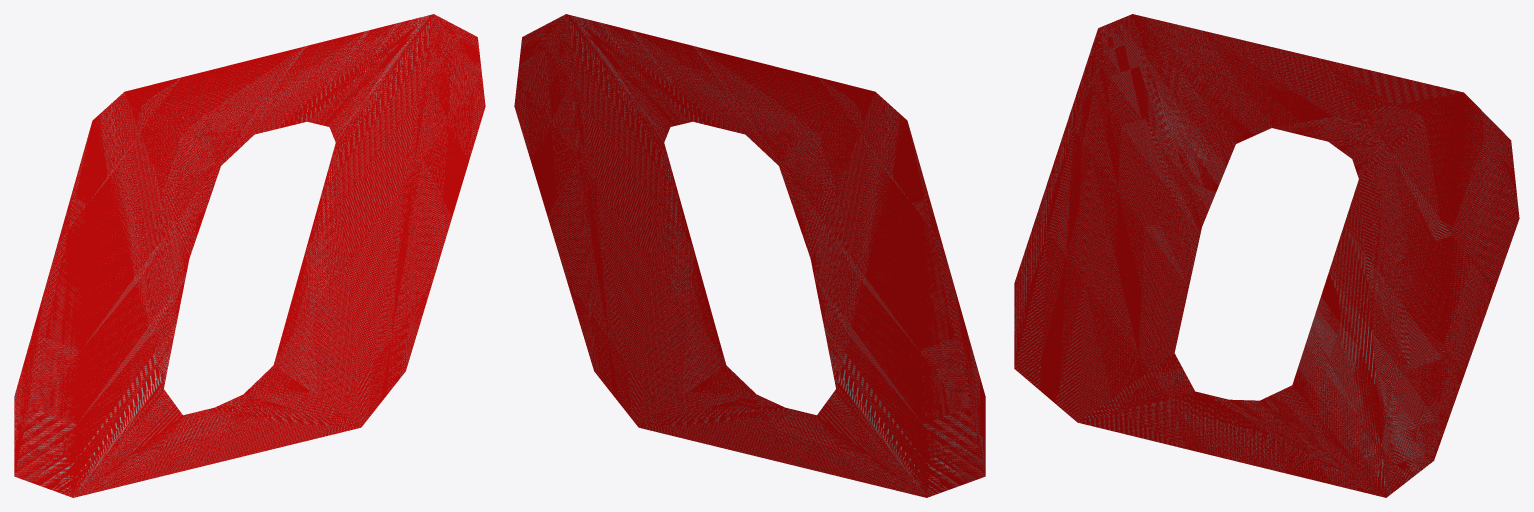
The model's file is original-251.obj.
3 views of the same model, side by side, from view 1: azimuth 30°, elevation 25°; view 2: azimuth 150°, elevation 25°; view 3: azimuth 330°, elevation 25° (orthographic). The views are drawn at different scales.
Parts seen in each view (by area): view 1: #ID1513; view 2: #ID1513; view 3: #ID1513.
Boxes of the visible parts, left/top/right/bottom form: #ID1513: left=14, top=14, right=485, bottom=497; #ID1513: left=514, top=14, right=985, bottom=497; #ID1513: left=1014, top=14, right=1519, bottom=497.
Size of the model in its own units: 0.0155 by 0.0124 by 0.
